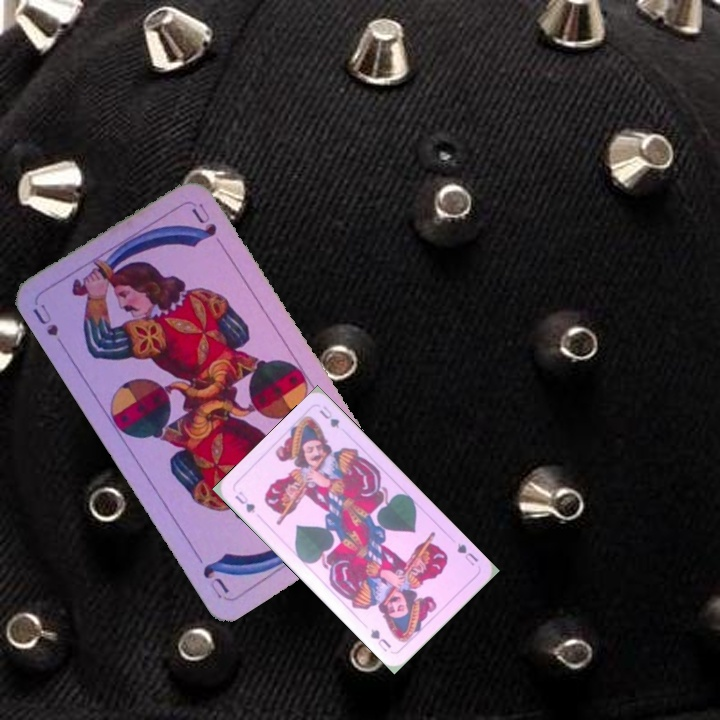GU: (230, 487, 258, 517), (453, 539, 481, 568)
SU: (28, 299, 70, 354)
